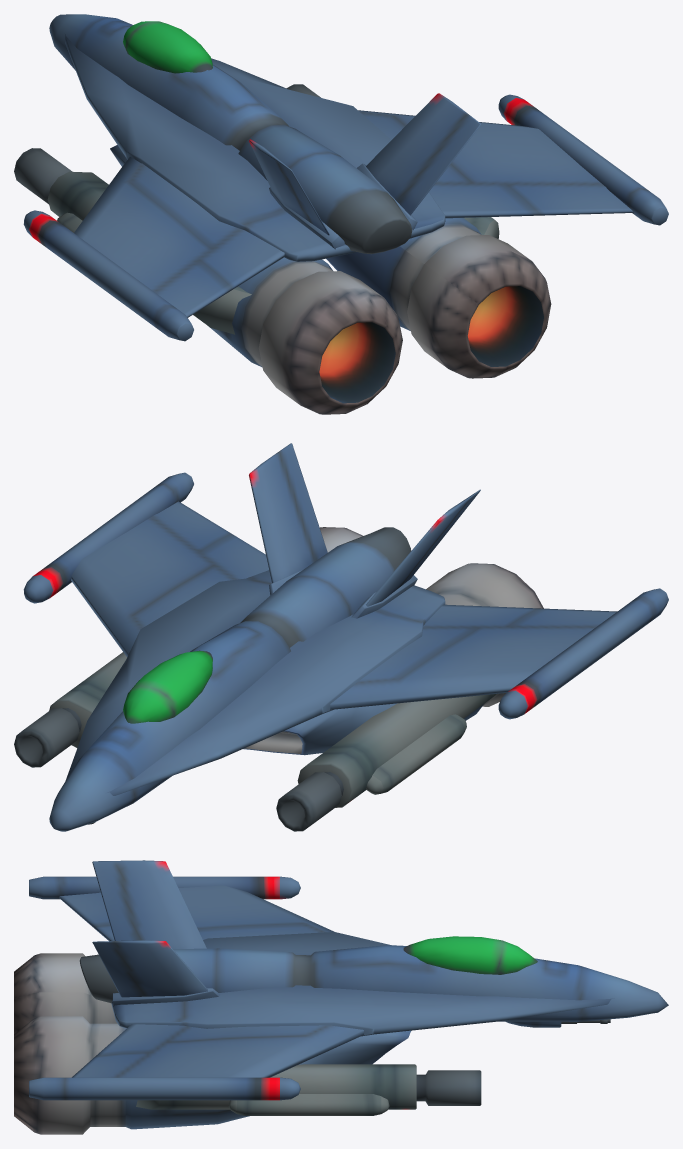
File: player_fighter_01.obj
3 renders of one model, top to bottom at view 1: azimuth 30°, elevation 25°; view 2: azimuth 150°, elevation 25°; view 3: azimuth 270°, elevation 25°, orthographic. The views are drawn at different scales.
Visible parts, largest first — view 1: Fighter; view 2: Fighter; view 3: Fighter.
Part boxes in pixels (x1=…): Fighter: x1=14, y1=14, x2=668, y2=414; Fighter: x1=14, y1=443, x2=668, y2=831; Fighter: x1=14, y1=860, x2=668, y2=1134.
Bounding box in the file's own units: 1.45 × 0.6284 × 1.9.
